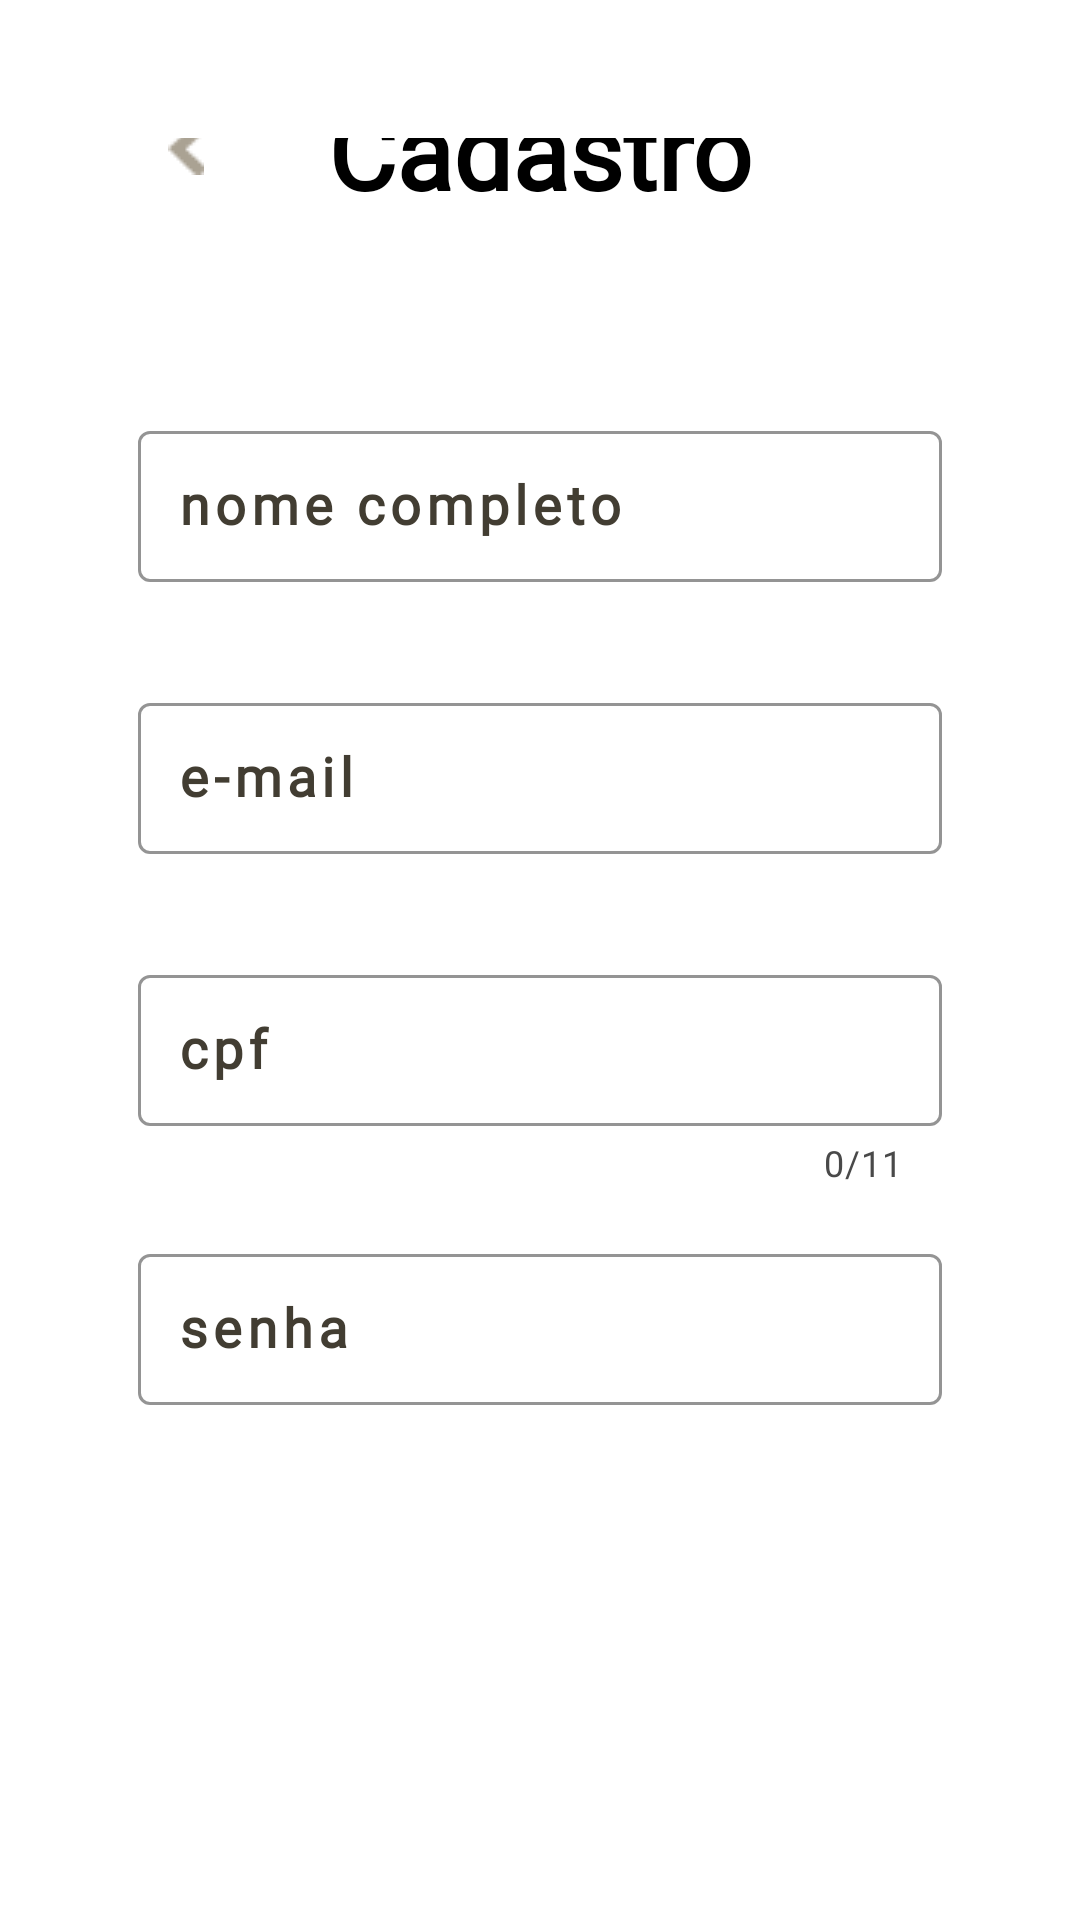

Locate icon controls on the screen. Image size 1080px×1920px, boxes as (x1=x1, y1=y1, x2=x2, y2=y2).
back arrow: (x1=168, y1=138, x2=204, y2=175)
